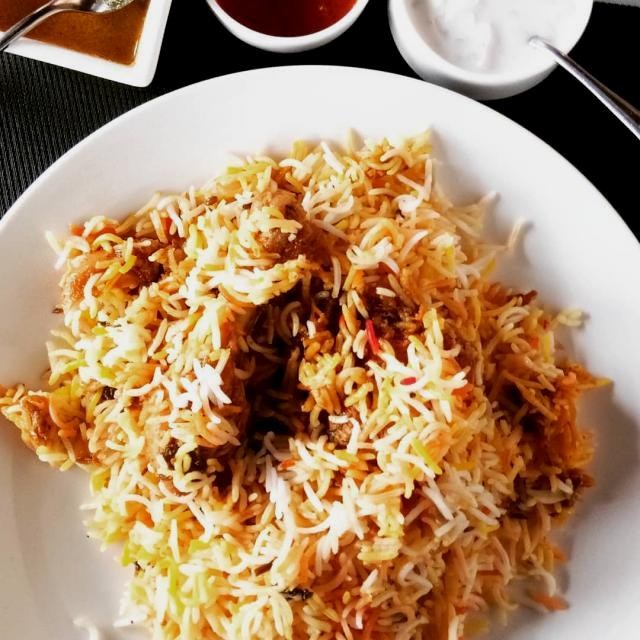biryani: (99, 134, 571, 562)
